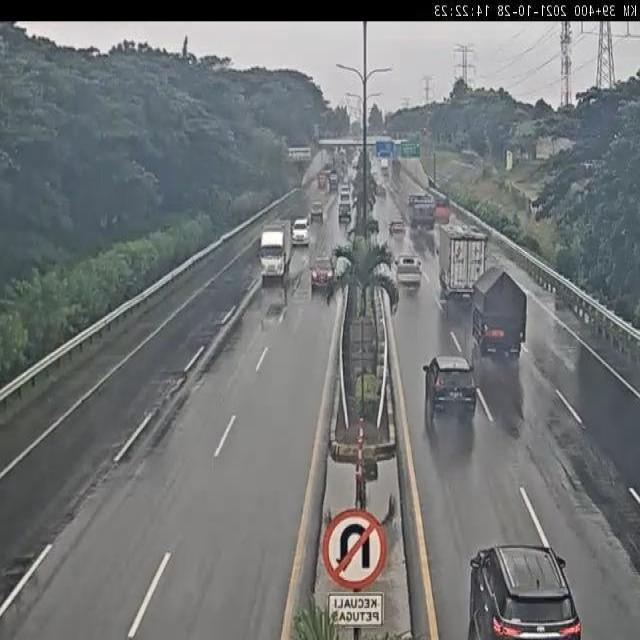Car: (467, 543, 582, 637), (424, 354, 479, 425), (394, 254, 424, 290), (308, 255, 337, 290), (292, 218, 310, 245), (337, 200, 353, 224), (310, 200, 324, 223), (389, 219, 406, 236), (340, 184, 350, 200)
Truck: (472, 264, 528, 359), (436, 224, 490, 301), (258, 219, 292, 279), (406, 193, 436, 231), (430, 193, 452, 223), (330, 171, 340, 191), (317, 172, 327, 190), (381, 158, 389, 171)
